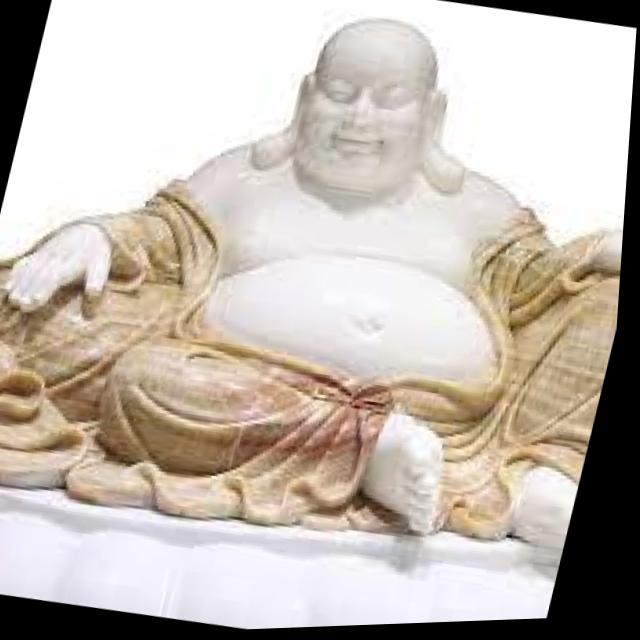Smiling Buddha: (118, 0, 608, 550)
